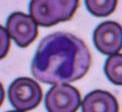N: (32, 31, 91, 83)
